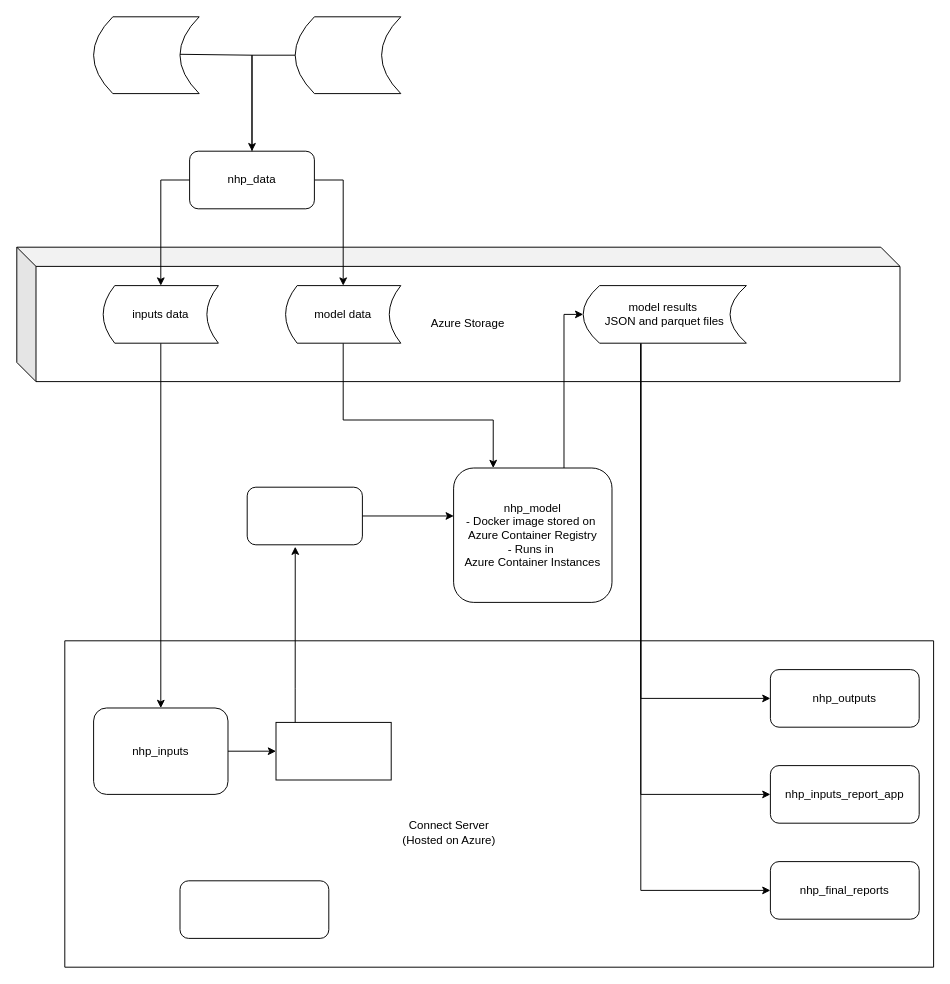
Image size: 950x984. Some labels were removed from this diagram. Each missing label, with the centre of its shape:
"HES data MLCSU Databricks" belongs at (x=146, y=55).
"nhp_api (Azure Function App)" belongs at (x=304, y=515).
"nhp_project_information" belongs at (x=254, y=909).
"ONS population projections" belongs at (x=347, y=55).
"Scenario JSON files" belongs at (x=333, y=750).
